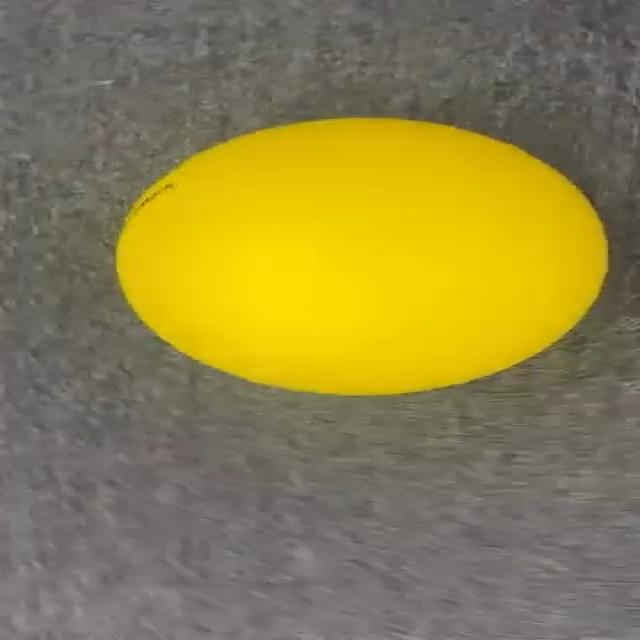Fuels: (116, 115, 606, 396)
